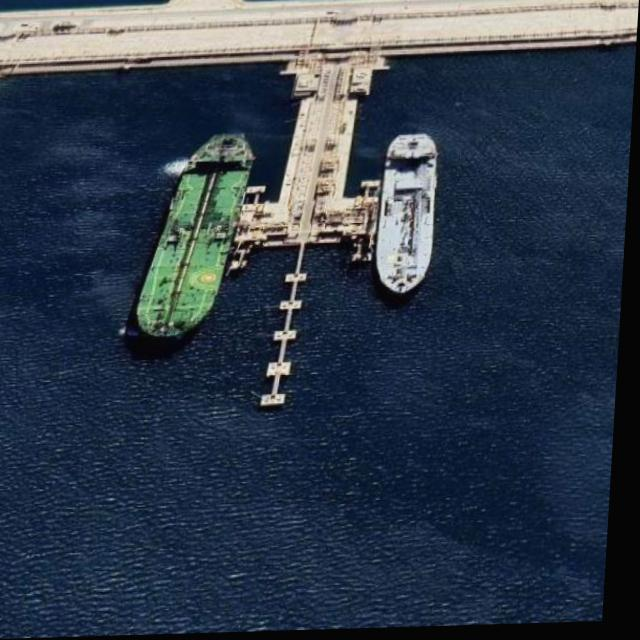ship2: (139, 137, 258, 341), (382, 137, 441, 296)
